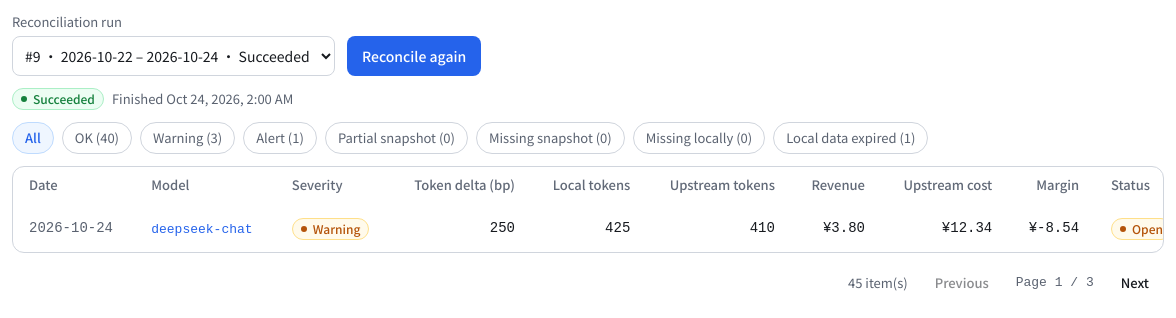
Scenario: reconciliation results tab › groups severity filters and pages server-side
The width and height of the screenshot is (1176, 318).
Check: the row with test id "item-row" is shown, box x1=13 y1=203 x2=1164 y2=252
Click the button "Alert (1)" at (280, 138), box x1=243 y1=122 x2=317 y2=154
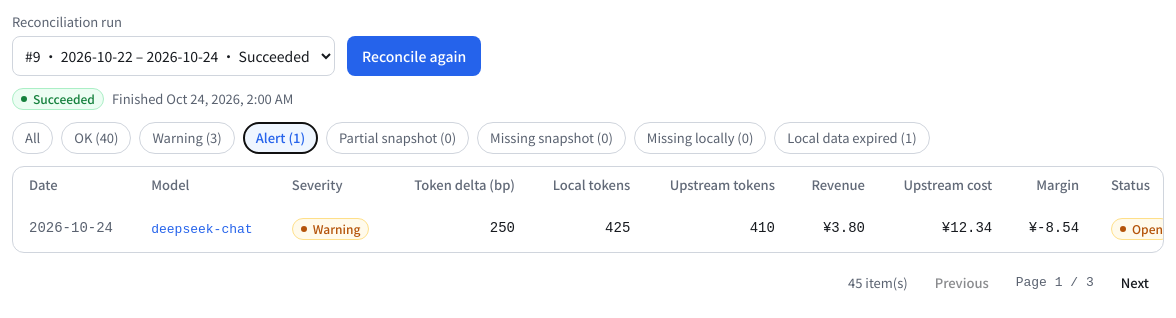
Click the button "Next" at (1135, 283), box x1=1106 y1=265 x2=1164 y2=301
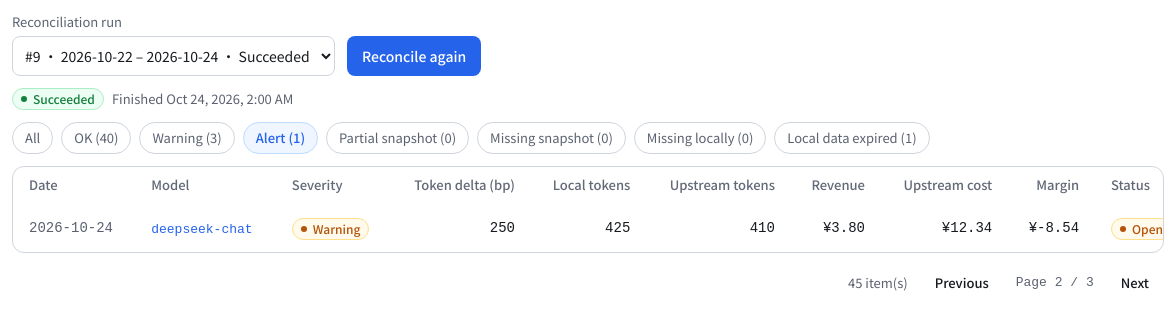
Check: the text "Page 2 / 3" is shown, box x1=1016 y1=273 x2=1094 y2=293
